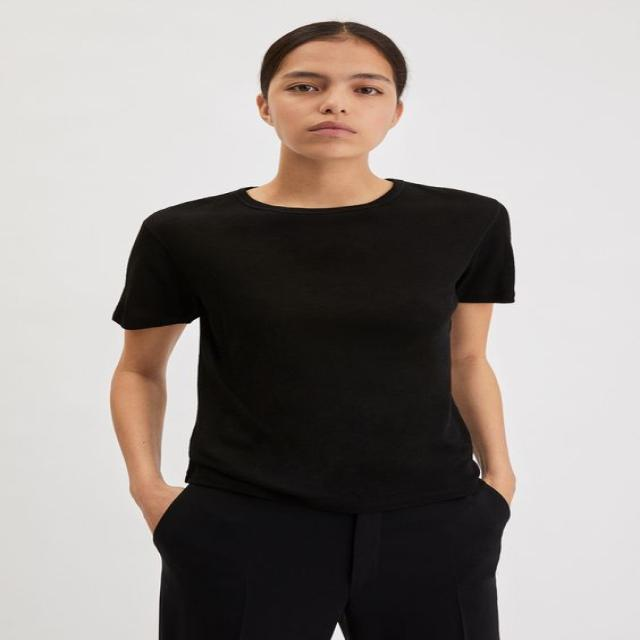Upper-Body: (114, 180, 516, 514)
